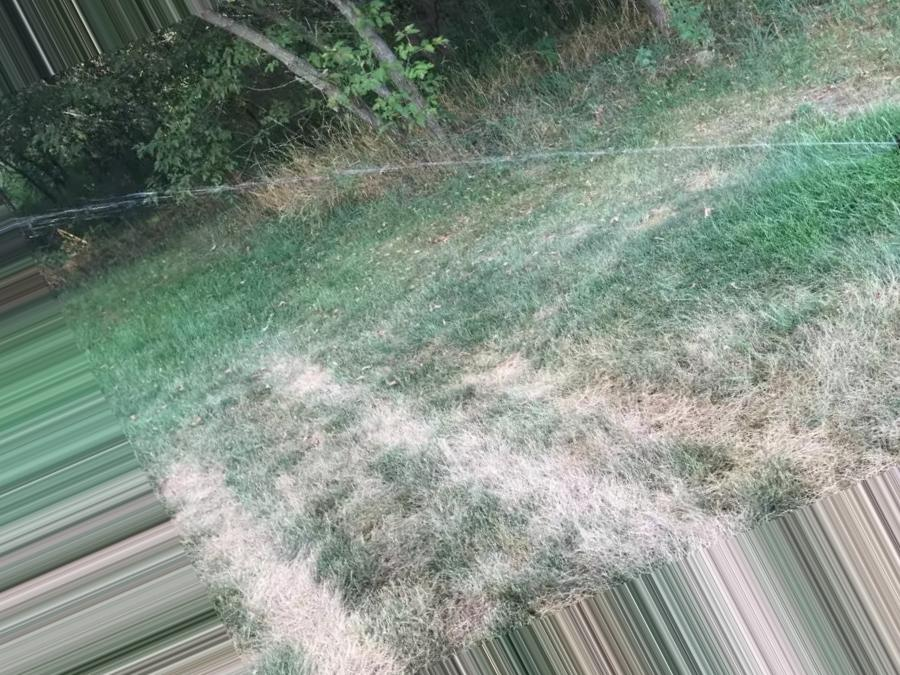patch: (496, 391, 648, 491), (571, 496, 700, 547), (243, 559, 333, 631), (185, 488, 255, 553)
